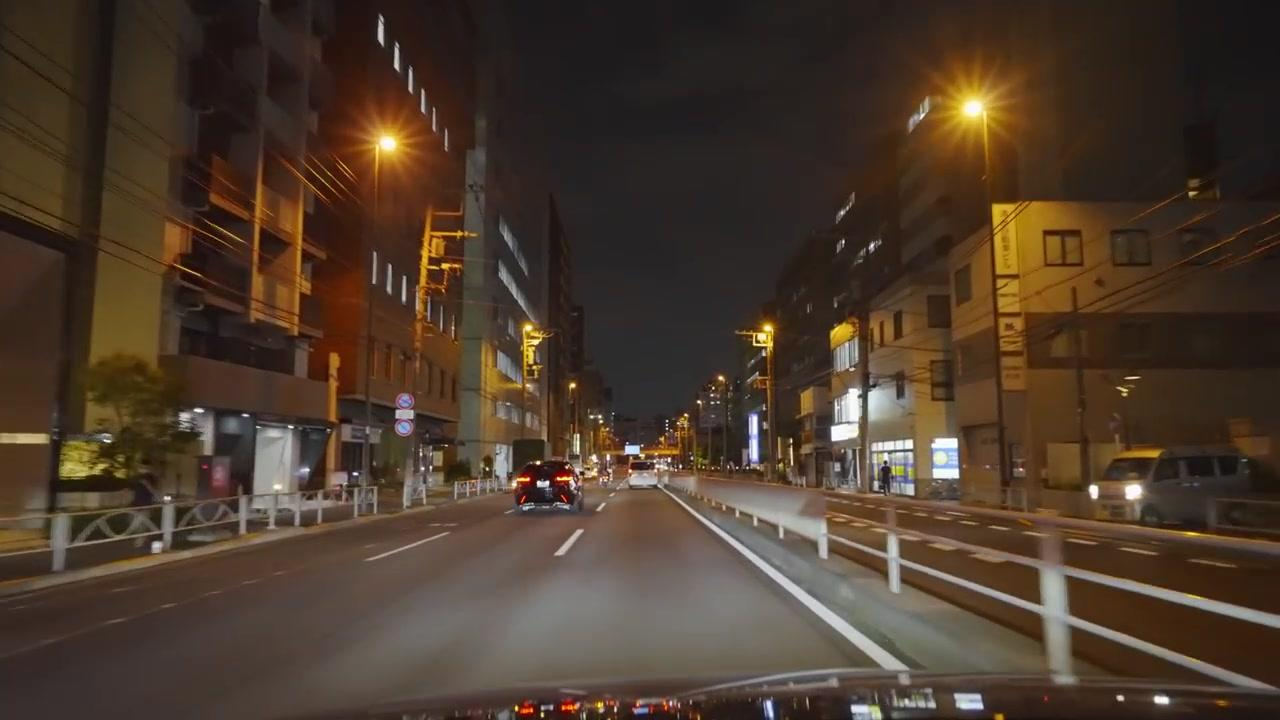car: (1090, 448, 1252, 528), (514, 459, 583, 512), (628, 463, 658, 490)
person: (877, 458, 892, 494)
